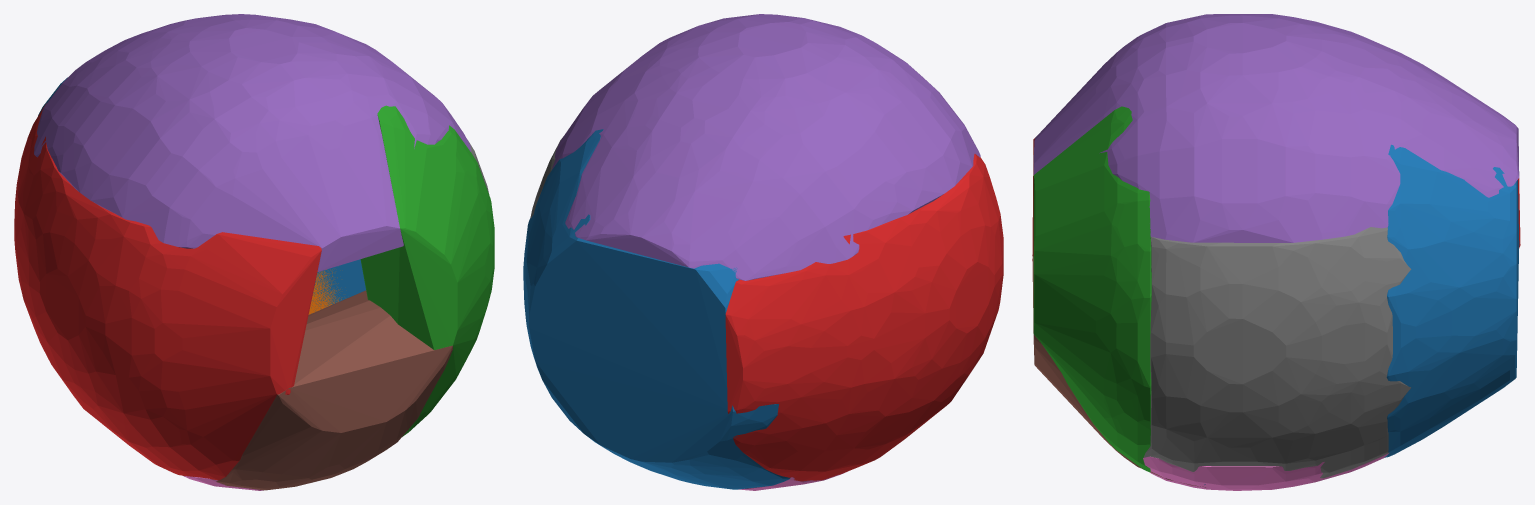
The model's file is Vase_01_cvx.obj.
3 renders of one model, left to right at view 1: azimuth 30°, elevation 25°; view 2: azimuth 150°, elevation 25°; view 3: azimuth 270°, elevation 25°, orthographic.
Parts seen in each view (by area): view 1: scenes/apartment_0000_coacd/output/Unknown/Vase_01/cvx/Vase_0100; view 2: scenes/apartment_0000_coacd/output/Unknown/Vase_01/cvx/Vase_0100; view 3: scenes/apartment_0000_coacd/output/Unknown/Vase_01/cvx/Vase_0100.
Part boxes in pixels (x1=…): scenes/apartment_0000_coacd/output/Unknown/Vase_01/cvx/Vase_0100: x1=14, y1=14, x2=494, y2=490; scenes/apartment_0000_coacd/output/Unknown/Vase_01/cvx/Vase_0100: x1=523, y1=14, x2=1003, y2=490; scenes/apartment_0000_coacd/output/Unknown/Vase_01/cvx/Vase_0100: x1=1032, y1=14, x2=1520, y2=490.
Size of the model in its own units: 0.5616 by 0.5616 by 0.5808.
